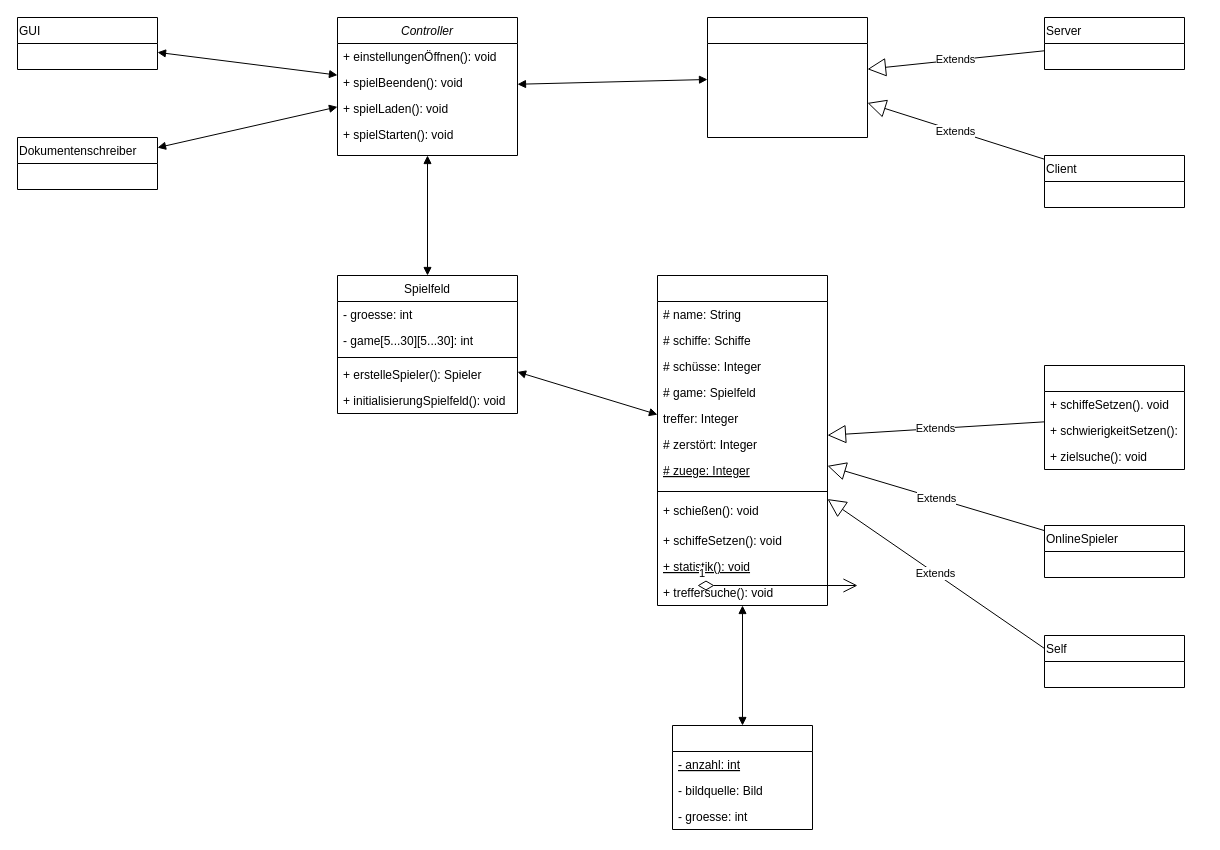
Some shapes in this 1220 by 850 pixel diagram are drawn without their labels. The shapes that lost their labels are listed below. From the top down, each one's box as (x1, y1, x2, y2) in pixels, then its label:
(706, 16, 868, 138): Network
(1044, 364, 1184, 470): OfflineSpieler
(656, 274, 828, 606): Spieler
(672, 724, 812, 830): Schiffe
